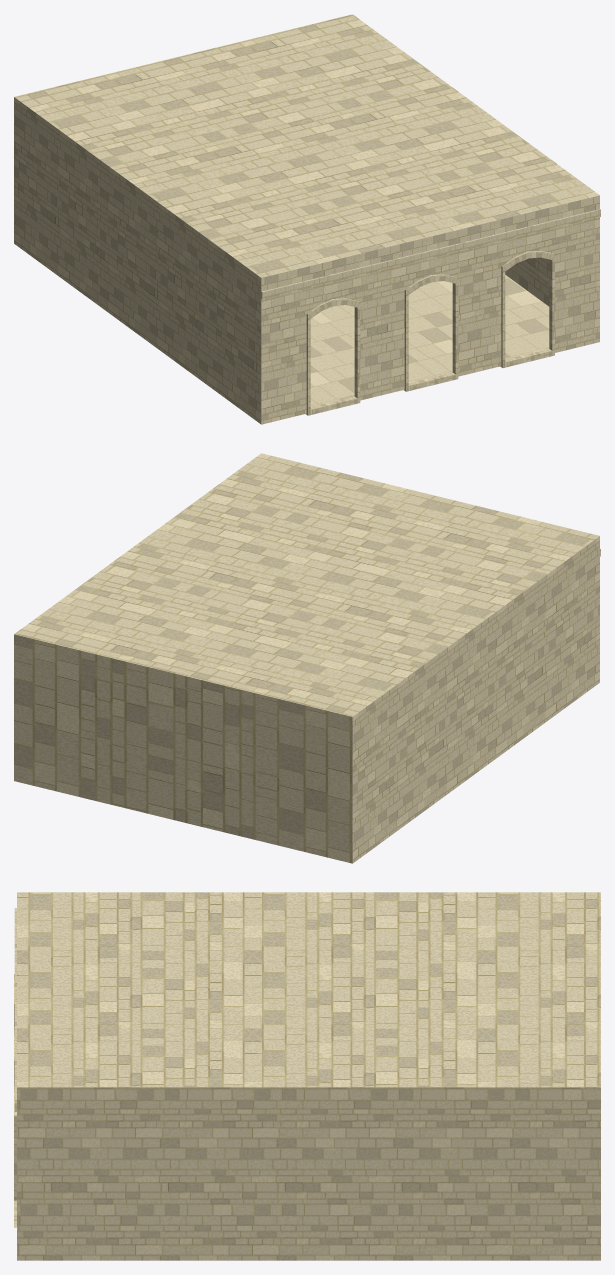
File: Building_1.gltf
3 renders of one model, top to bottom at view 1: azimuth 30°, elevation 25°; view 2: azimuth 150°, elevation 25°; view 3: azimuth 270°, elevation 25°, orthographic. The views are drawn at different scales.
Visible parts, largest first — view 1: Cube.001; view 2: Cube.001; view 3: Cube.001.
Part boxes in pixels (x1,y1,x2,y2): Cube.001: [14, 14, 600, 424]; Cube.001: [14, 453, 600, 863]; Cube.001: [14, 892, 600, 1260].
Bounding box in the file's own units: 10.77 × 4.5 × 13.7.
2 materials, 2 textured.
